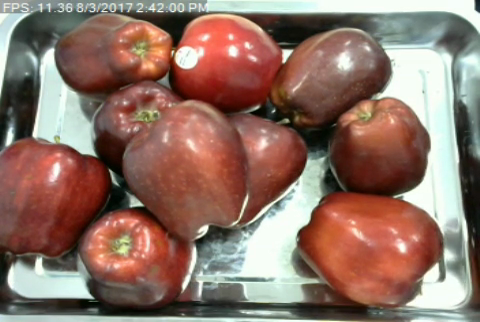Apple: (117, 96, 251, 244), (293, 190, 447, 312), (0, 133, 114, 262), (266, 25, 395, 132), (75, 205, 198, 309), (166, 11, 285, 116), (53, 10, 178, 100), (326, 95, 433, 199), (88, 76, 188, 177), (227, 109, 309, 227)
